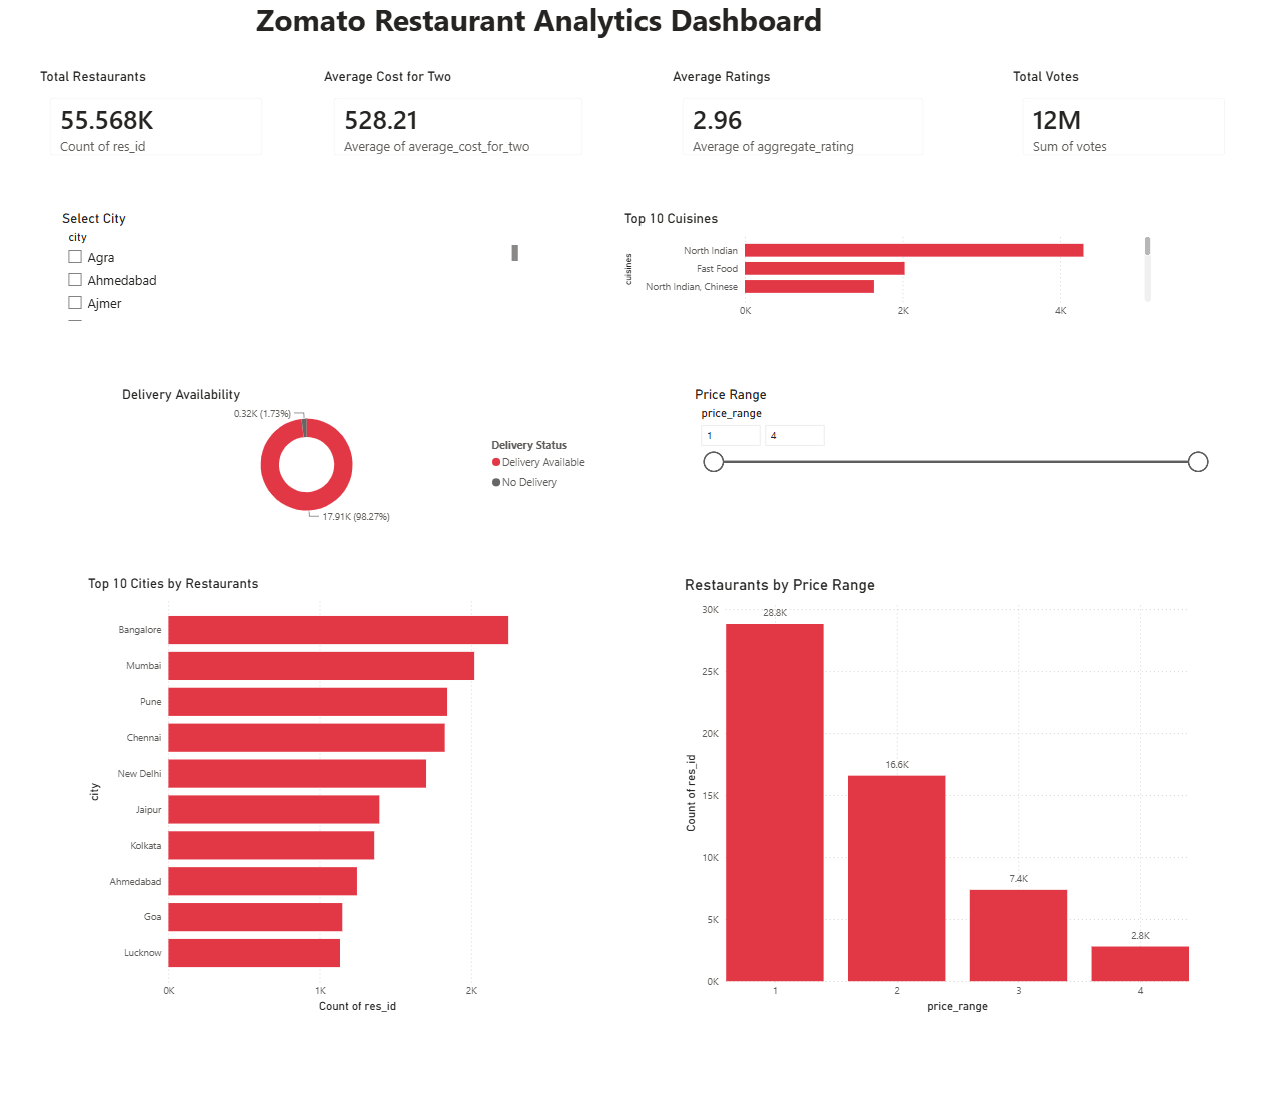

The page's visual inventory and layout, read from the dashboard file:
{"tool":"powerbi","page":{"name":"Page 1","canvas":[1600,1400],"ordinal":0},"visuals":[{"type":"cardVisual","title":"Total Restaurants","fields":{"Data":["Count(zomato_cleaned.res_id)"]},"box":[45,92.5,300,125],"z":0},{"type":"cardVisual","title":"Average Ratings","fields":{"Data":["Avg(zomato_cleaned.aggregate_rating)"]},"box":[835,92.5,335,125],"z":1000},{"type":"cardVisual","title":"Average Cost for Two","fields":{"Data":["Avg(zomato_cleaned.average_cost_for_two)"]},"box":[400,92.5,345,125],"z":2000},{"type":"clusteredBarChart","title":"Top 10 Cities by Restaurants","fields":{"Y":["Count(zomato_cleaned.res_id)"],"Category":["zomato_cleaned.city"]},"box":[105,725,590,550],"z":3000},{"type":"clusteredBarChart","title":"Top 10 Cuisines","fields":{"Category":["zomato_cleaned.cuisines"],"Y":["Count(zomato_cleaned.res_id)"]},"box":[775,270,667.5,142.5],"z":4000},{"type":"cardVisual","title":"Total Votes","fields":{"Data":["Sum(zomato_cleaned.votes)"]},"box":[1260,92.5,287.5,125],"z":5000},{"type":"donutChart","title":"Delivery Availability","fields":{"Y":["Count(zomato_cleaned.res_id)"],"Category":["zomato_cleaned.Delivery Status"]},"box":[147.5,490,597.5,175],"z":6000},{"type":"clusteredColumnChart","title":"Restaurants by Price Range","fields":{"Category":["zomato_cleaned.price_range"],"Y":["Count(zomato_cleaned.res_id)"]},"box":[850,725,640,550],"z":7000},{"type":"slicer","title":"Select City","fields":{"Values":["zomato_cleaned.city"]},"box":[72.5,270,580,142.5],"z":9000},{"type":"slicer","title":"Price Range","fields":{"Values":["zomato_cleaned.price_range"]},"box":[862.5,490,655,175],"z":10000},{"type":"textbox","box":[140,0,1066.7,68.3],"z":12000}]}

Visuals, with their boxes in screenshot pixels (x1, y1, x2, y2), scaled from the page's 1600x1400 canvas onto the 1278x1112 screenshot:
"Total Restaurants" cardVisual: <box>36,73,276,173</box>
"Average Ratings" cardVisual: <box>667,73,935,173</box>
"Average Cost for Two" cardVisual: <box>320,73,595,173</box>
"Top 10 Cities by Restaurants" clusteredBarChart: <box>84,576,555,1013</box>
"Top 10 Cuisines" clusteredBarChart: <box>619,214,1152,328</box>
"Total Votes" cardVisual: <box>1006,73,1236,173</box>
"Delivery Availability" donutChart: <box>118,389,595,528</box>
"Restaurants by Price Range" clusteredColumnChart: <box>679,576,1190,1013</box>
"Select City" slicer: <box>58,214,521,328</box>
"Price Range" slicer: <box>689,389,1212,528</box>
textbox: <box>112,0,964,54</box>
